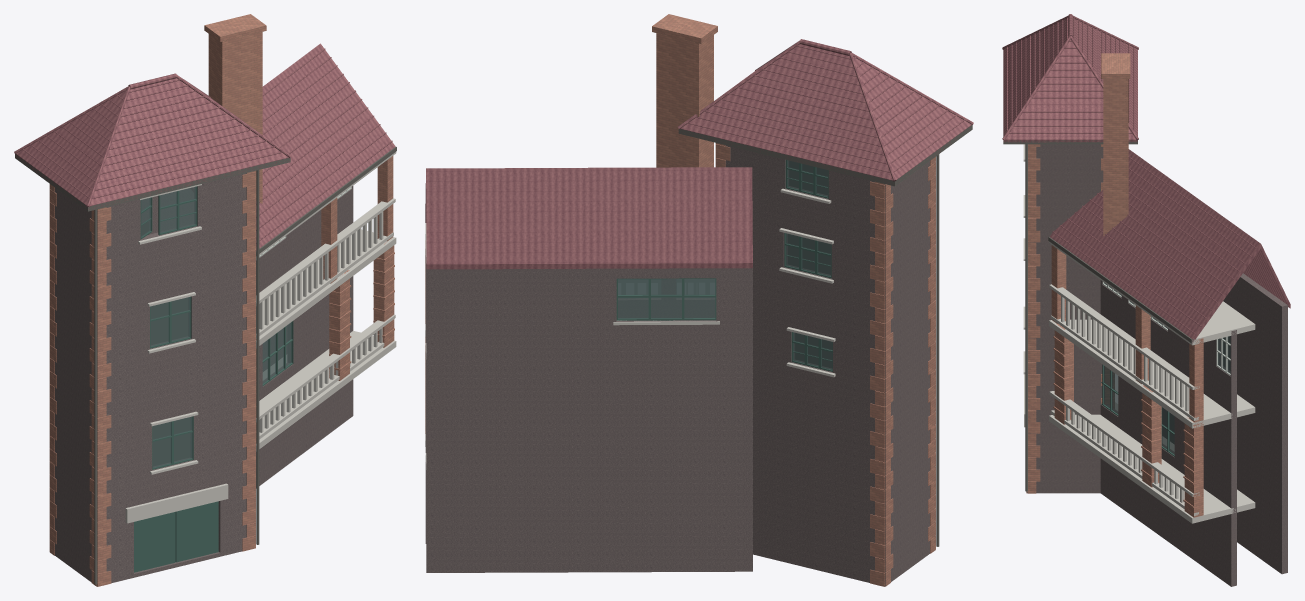
Rendered from full-source.glb.
3 renders of one model, left to right at view 1: azimuth 30°, elevation 25°; view 2: azimuth 150°, elevation 25°; view 3: azimuth 270°, elevation 25°, orthographic. The views are drawn at different scales.
Visible parts, largest first — view 1: 新华村15号院面方塔与斜接侧廊; view 2: 新华村15号院面方塔与斜接侧廊; view 3: 新华村15号院面方塔与斜接侧廊.
Part boxes in pixels (<box>): 新华村15号院面方塔与斜接侧廊: <box>14,14,396,586</box>; 新华村15号院面方塔与斜接侧廊: <box>425,14,973,586</box>; 新华村15号院面方塔与斜接侧廊: <box>1002,14,1290,586</box>.
Bounding box in the file's own units: 14.61 × 16.28 × 9.62.
Materials: 9 (3 with a texture image).
